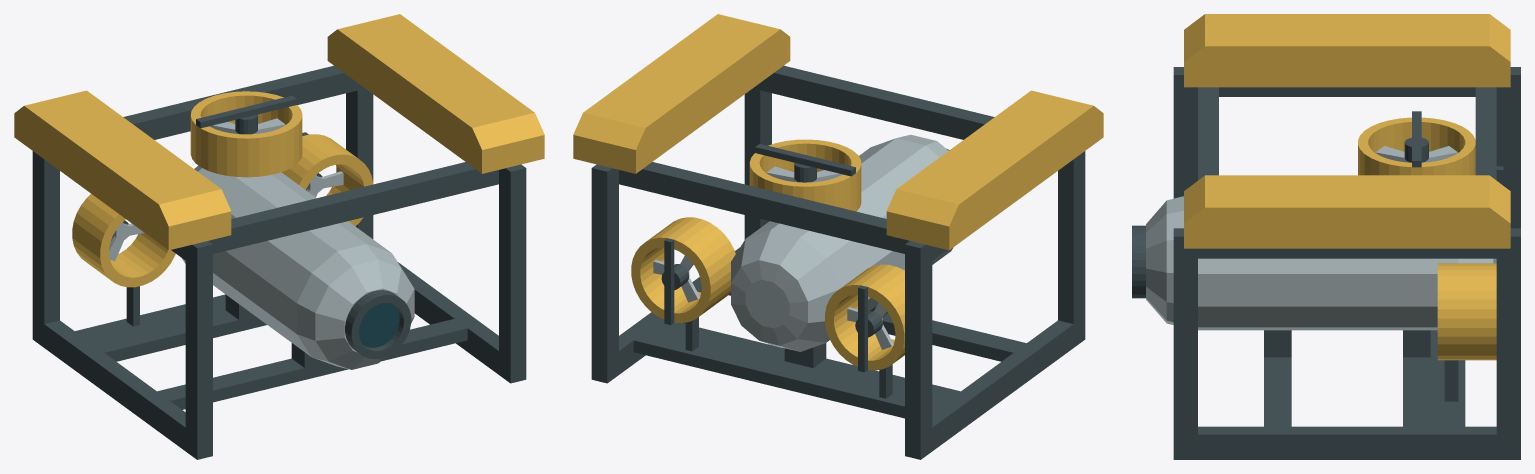
3 renders of one model, left to right at view 1: azimuth 30°, elevation 25°; view 2: azimuth 150°, elevation 25°; view 3: azimuth 270°, elevation 25°, orthographic. The views are drawn at different scales.
Visible parts, largest first — view 1: WholeHorizontalTaperedCapsule, RightWholeChamferedUpperCowl, LeftWholeChamferedUpperCowl, LeftWholePiercedSideFrame, RightWholePiercedSideFrame, FrontWholeUpperCrossbar, WholePerpendicularTopDuct, LeftWholeAftDuct, FrontWholeLowerCrossbar, RearWholeLowerCrossbar, RearWholeUpperCrossbar, RightWholeAftDuct (+5 smaller); view 2: RightWholeChamferedUpperCowl, LeftWholeChamferedUpperCowl, WholeHorizontalTaperedCapsule, LeftWholePiercedSideFrame, RearWholeLowerCrossbar, RightWholePiercedSideFrame, RearWholeUpperCrossbar, FrontWholeUpperCrossbar, RightWholeAftDuct, LeftWholeAftDuct, WholePerpendicularTopDuct, FrontWholeLowerCrossbar (+6 smaller); view 3: RightWholePiercedSideFrame, LeftWholeChamferedUpperCowl, RightWholeChamferedUpperCowl, WholeHorizontalTaperedCapsule, LeftWholePiercedSideFrame, RightWholeAftDuct, WholePerpendicularTopDuct, RearWholeLowerCrossbar, RearWholeUpperCrossbar, FrontWholeLowerCrossbar, FrontWholeUpperCrossbar, WholeForwardWindowRim (+5 smaller).
Boxes of the visible parts, x1,y1,x2,y2 form: WholeHorizontalTaperedCapsule: (182, 165, 414, 369); RightWholeChamferedUpperCowl: (327, 14, 544, 173); LeftWholeChamferedUpperCowl: (14, 90, 231, 250); LeftWholePiercedSideFrame: (32, 151, 212, 459); RightWholePiercedSideFrame: (346, 88, 526, 383); FrontWholeUpperCrossbar: (208, 162, 498, 253); WholePerpendicularTopDuct: (190, 91, 302, 177); LeftWholeAftDuct: (72, 194, 175, 287); FrontWholeLowerCrossbar: (157, 319, 467, 409); RearWholeLowerCrossbar: (75, 294, 266, 361); RearWholeUpperCrossbar: (123, 65, 364, 139); RightWholeAftDuct: (281, 134, 373, 226); RightWholeChamferedUpperCowl: (573, 14, 790, 173); LeftWholeChamferedUpperCowl: (886, 90, 1103, 250); WholeHorizontalTaperedCapsule: (731, 134, 953, 351); LeftWholePiercedSideFrame: (905, 151, 1085, 459); RearWholeLowerCrossbar: (633, 319, 960, 418); RightWholePiercedSideFrame: (591, 88, 771, 383); RearWholeUpperCrossbar: (619, 162, 909, 253); FrontWholeUpperCrossbar: (753, 65, 994, 139); RightWholeAftDuct: (631, 217, 735, 323); LeftWholeAftDuct: (825, 264, 904, 370); WholePerpendicularTopDuct: (749, 139, 861, 211); FrontWholeLowerCrossbar: (728, 293, 1026, 361); RightWholePiercedSideFrame: (1173, 228, 1520, 459); LeftWholeChamferedUpperCowl: (1184, 14, 1510, 87); RightWholeChamferedUpperCowl: (1184, 175, 1510, 248); WholeHorizontalTaperedCapsule: (1146, 196, 1496, 330); LeftWholePiercedSideFrame: (1173, 67, 1520, 228); RightWholeAftDuct: (1437, 263, 1496, 360); WholePerpendicularTopDuct: (1358, 117, 1475, 175); RearWholeLowerCrossbar: (1403, 330, 1465, 426); RearWholeUpperCrossbar: (1475, 87, 1496, 180); FrontWholeLowerCrossbar: (1264, 357, 1291, 426); FrontWholeUpperCrossbar: (1198, 87, 1218, 180); WholeForwardWindowRim: (1132, 225, 1145, 298).
Bounding box in the file's own units: 1.32 × 0.84 × 1.12.
